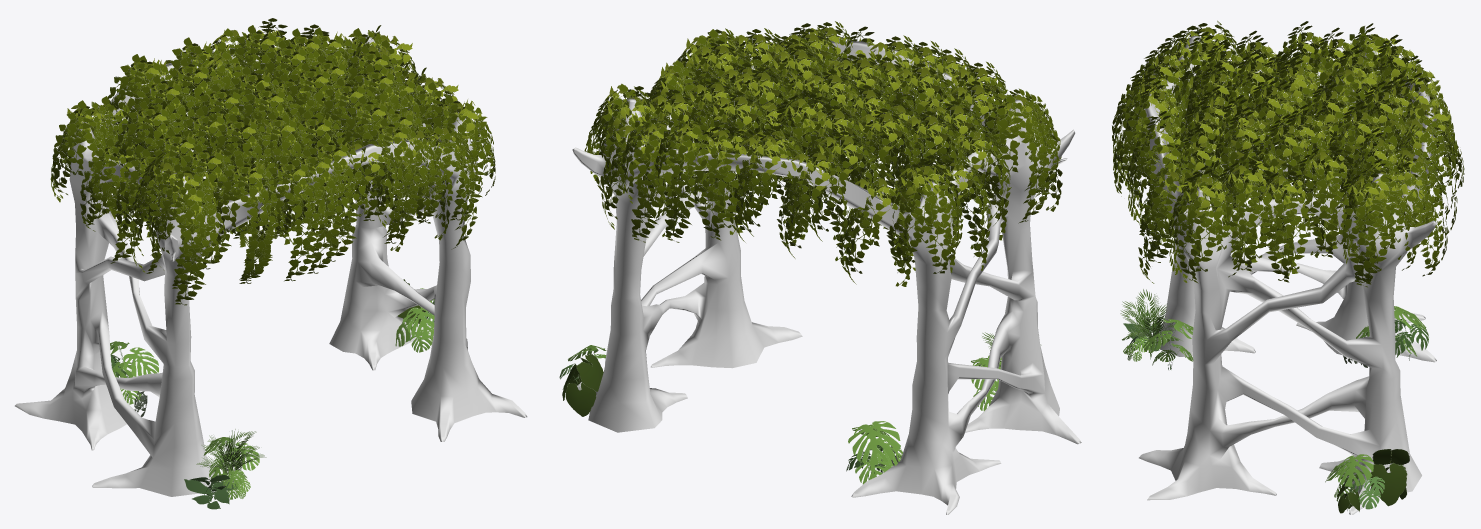
The model's file is Plant stall.fbx.
3 views of the same model, side by side, from view 1: azimuth 30°, elevation 25°; view 2: azimuth 150°, elevation 25°; view 3: azimuth 270°, elevation 25° (orthographic). The views are drawn at different scales.
Parts seen in each view (by area): view 1: pluvia stall hanging leaves, pluvia stall branches, pluvia stall bottom leaves; view 2: pluvia stall hanging leaves, pluvia stall branches, pluvia stall bottom leaves; view 3: pluvia stall hanging leaves, pluvia stall branches, pluvia stall bottom leaves.
Part boxes in pixels (x1,y1,x2,y2): pluvia stall hanging leaves: (50, 18, 495, 305); pluvia stall branches: (15, 36, 527, 496); pluvia stall bottom leaves: (110, 279, 434, 509); pluvia stall hanging leaves: (584, 21, 1062, 286); pluvia stall branches: (572, 41, 1081, 514); pluvia stall bottom leaves: (559, 332, 1041, 484); pluvia stall hanging leaves: (1112, 20, 1464, 287); pluvia stall branches: (1139, 35, 1436, 514); pluvia stall bottom leaves: (1120, 289, 1428, 513).
Size of the model in its own units: 125 by 101 by 88.99.
